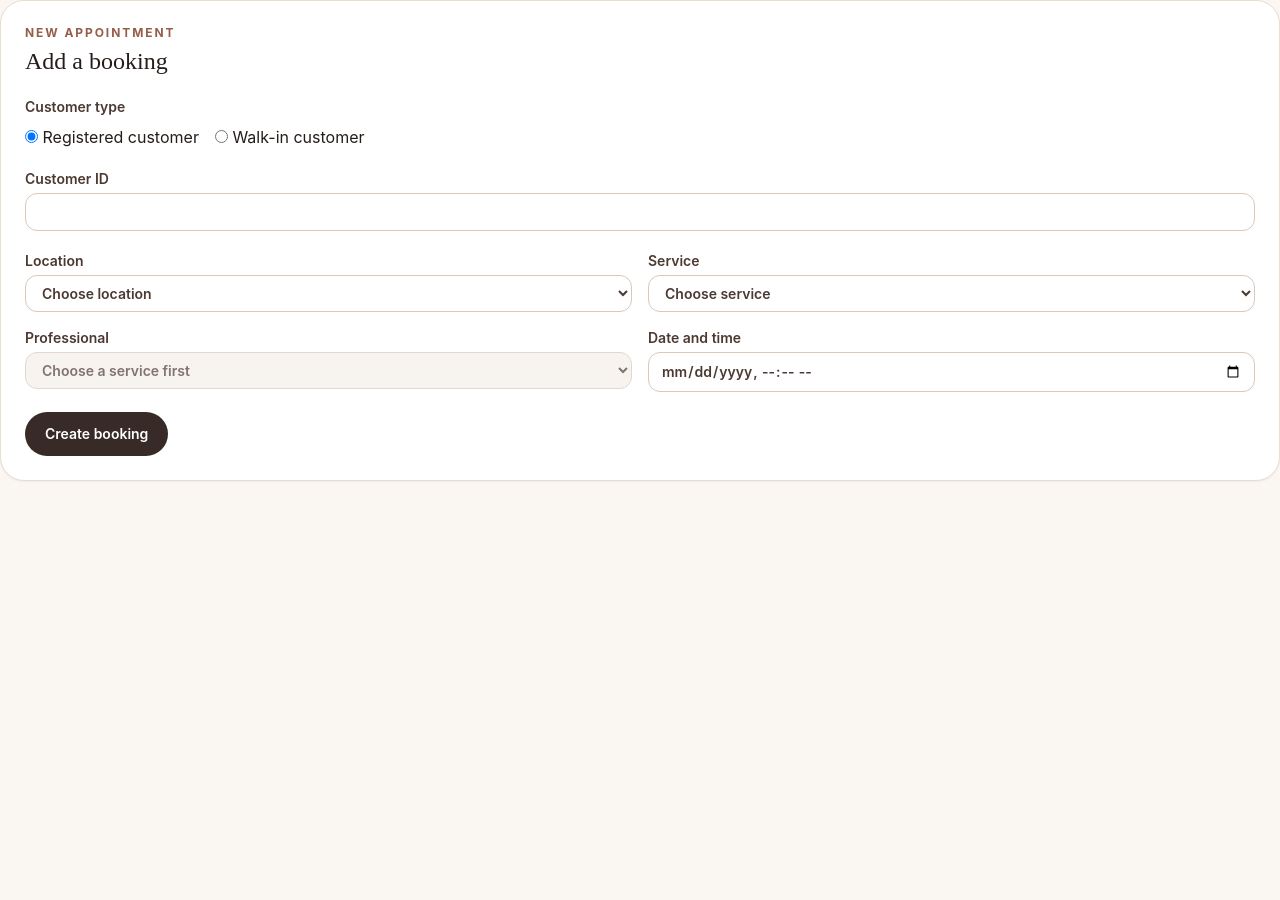
Test: BookingEditor › shows a rejected booking without leaving the form stuck
The width and height of the screenshot is (1280, 900).
Step 1. Click the radio button labelled "Walk-in customer" → (221, 136), box [215,130,228,143]
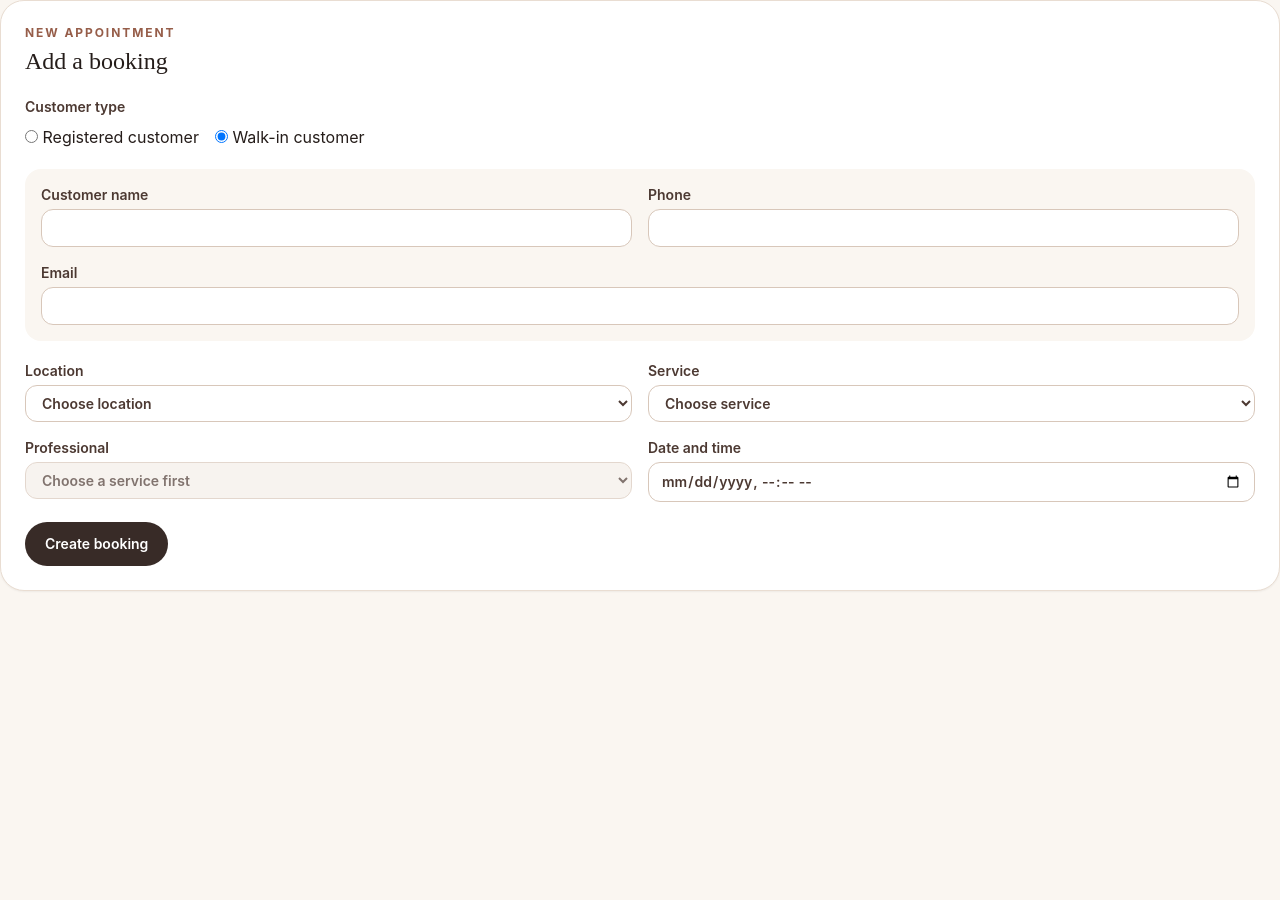
Step 2. Type "Maya Joseph" into the field labelled "Customer name" → (336, 228), box [41,209,632,247]
Step 3. Select "Castries" in the dropdown labelled "Location" → (328, 404), box [25,385,632,422]
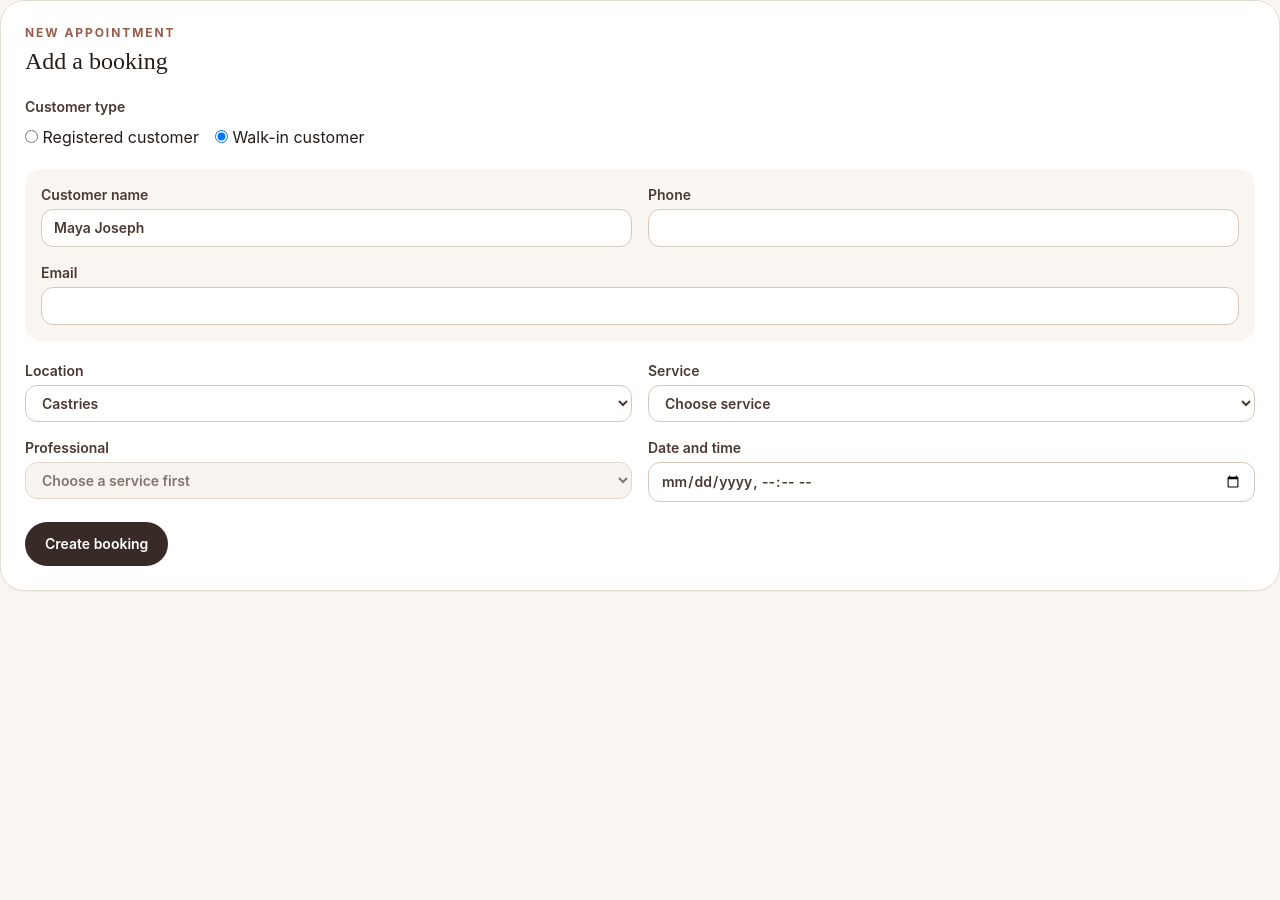
Step 4. Select "Consultation" in the dropdown labelled "Service" → (952, 404), box [648,385,1255,422]
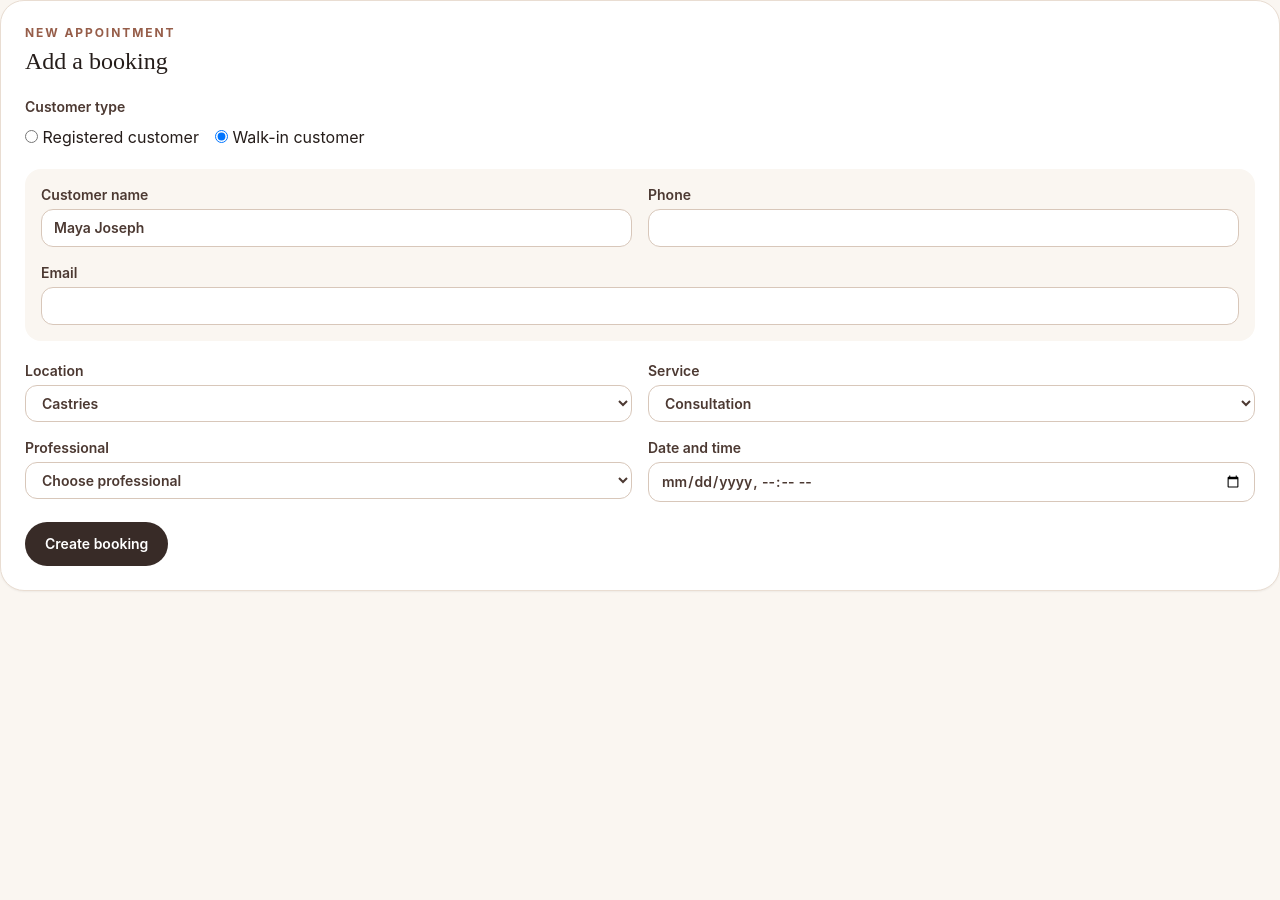
Step 5. Select "Kai" in the dropdown labelled "Professional" → (328, 480), box [25,462,632,499]
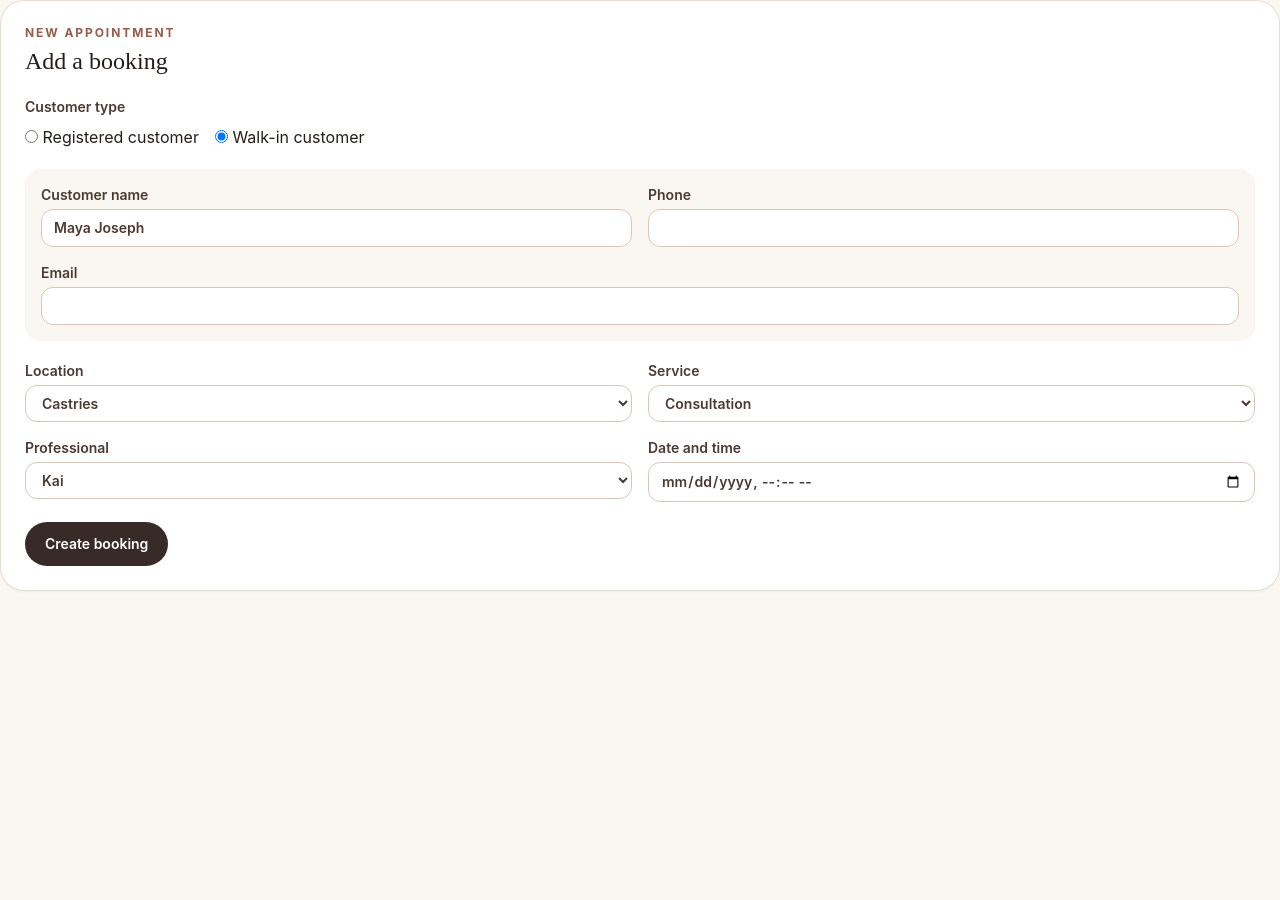
Step 6. Type "2030-01-15T10:00" into the field labelled "Date and time" → (952, 482), box [648,462,1255,502]
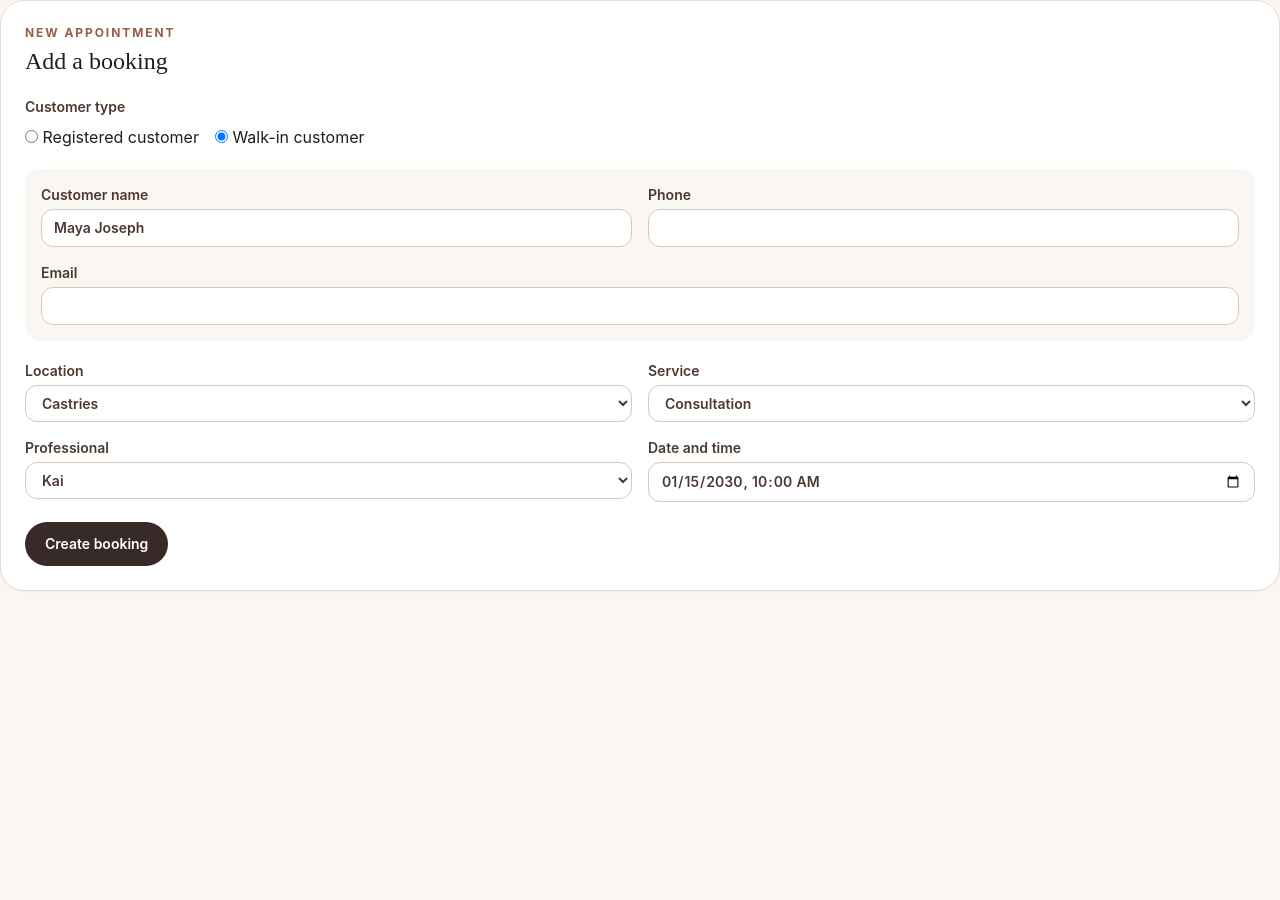
Step 7. Click the button "Create booking" → (97, 544), box [25,522,168,566]
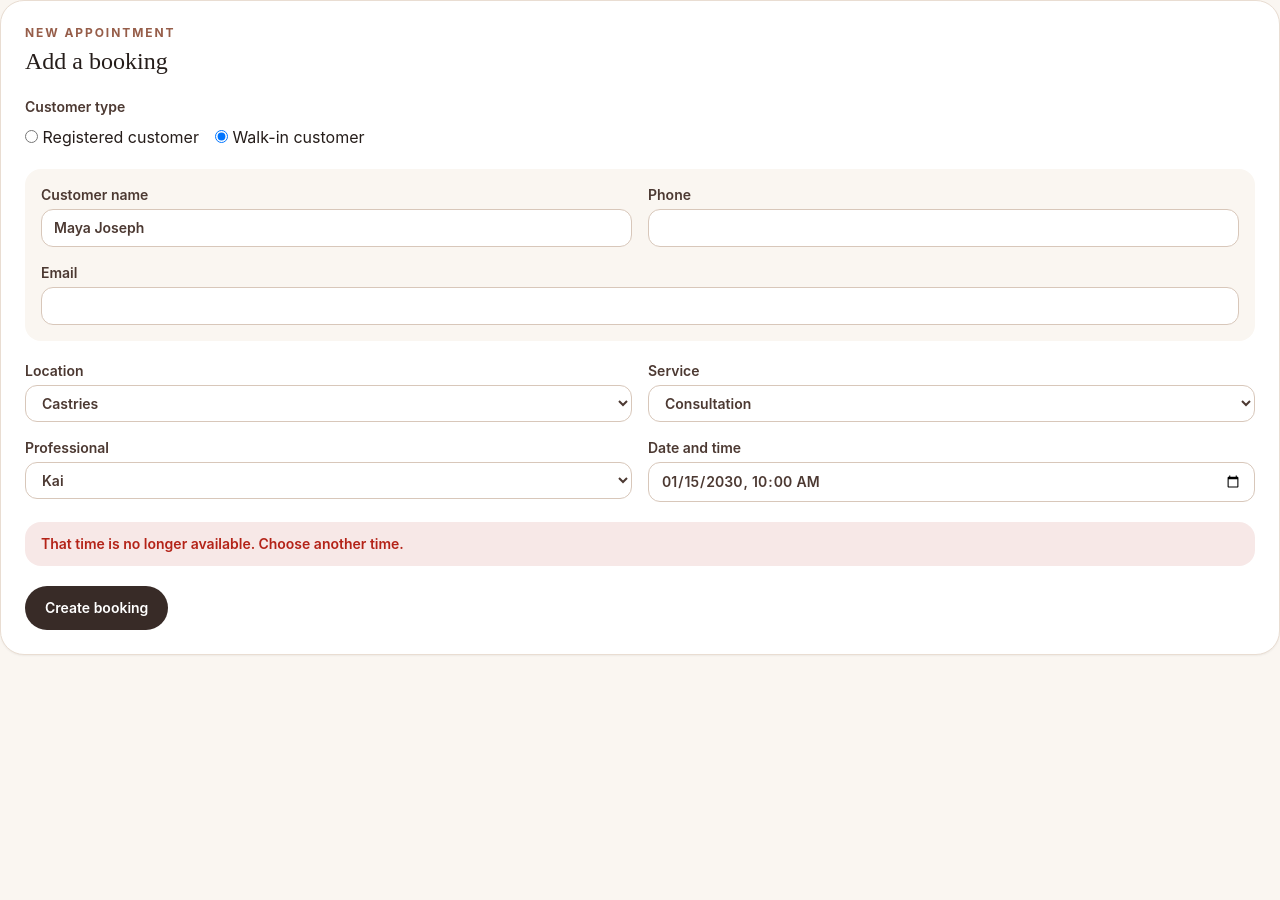
Expected: the button "Create booking" is enabled, [25,586,168,630]
Now the message shows "no longer available", box [41,535,404,552]
